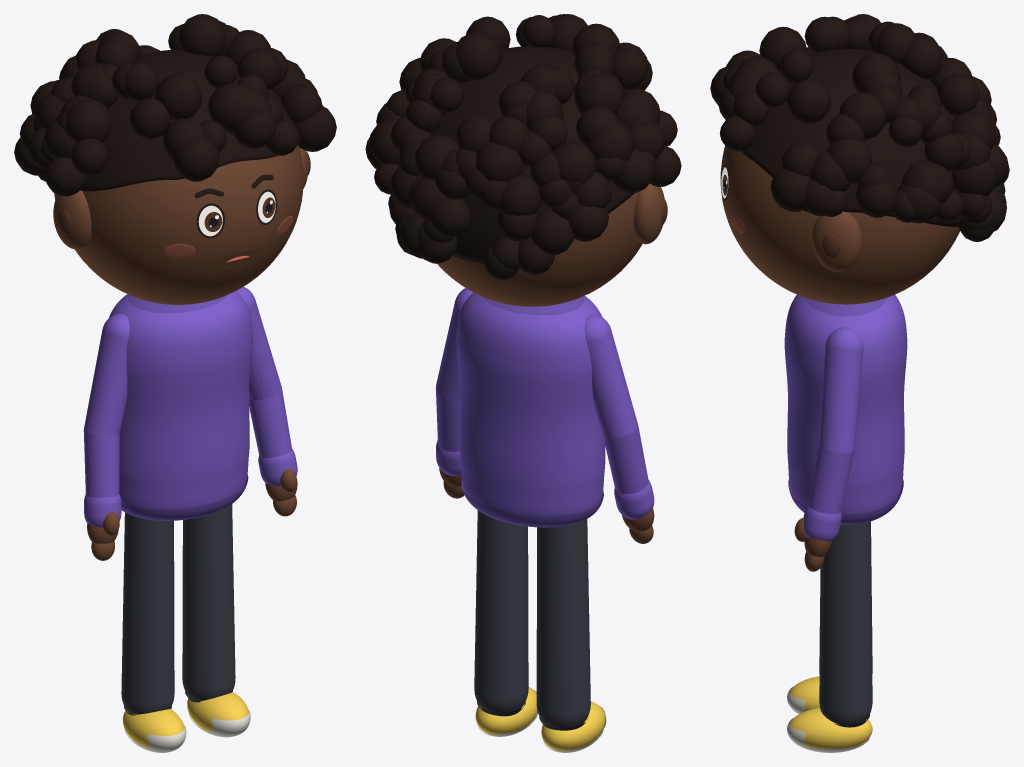
Rendered from figurant_d.glb.
The picture shows the model from 3 angles, left to right: view 1: azimuth 30°, elevation 25°; view 2: azimuth 150°, elevation 25°; view 3: azimuth 270°, elevation 25°; orthographic projection. The views are drawn at different scales.
Visible parts, largest first — view 1: figurant_d_romp, figurant_d_hoofd, figurant_d_been_R, figurant_d_been_L, figurant_d_haar, figurant_d_bovenarm_R, figurant_d_onderarm_R, figurant_d_bovenarm_L, figurant_d_onderarm_L, figurant_d_krul60, figurant_d_krul32, figurant_d_krul77 (+31 smaller); view 2: figurant_d_romp, figurant_d_been_R, figurant_d_been_L, figurant_d_hoofd, figurant_d_haar, figurant_d_bovenarm_R, figurant_d_onderarm_R, figurant_d_krul60, figurant_d_bovenarm_L, figurant_d_schoen_R, figurant_d_romp_boord, figurant_d_krul28 (+52 smaller); view 3: figurant_d_romp, figurant_d_hoofd, figurant_d_been_L, figurant_d_haar, figurant_d_bovenarm_L, figurant_d_onderarm_L, figurant_d_oor_L, figurant_d_schoen_L, figurant_d_krul55, figurant_d_krul0, figurant_d_krul26, figurant_d_krul83 (+36 smaller).
Part boxes in pixels (x1=…): figurant_d_romp: x1=109, y1=291, x2=252, y2=509; figurant_d_hoofd: x1=54, y1=145, x2=303, y2=304; figurant_d_been_R: x1=121, y1=512, x2=174, y2=714; figurant_d_been_L: x1=182, y1=504, x2=235, y2=701; figurant_d_haar: x1=80, y1=49, x2=301, y2=191; figurant_d_bovenarm_R: x1=84, y1=313, x2=129, y2=435; figurant_d_onderarm_R: x1=83, y1=430, x2=119, y2=497; figurant_d_bovenarm_L: x1=236, y1=286, x2=281, y2=400; figurant_d_onderarm_L: x1=249, y1=389, x2=291, y2=457; figurant_d_krul60: x1=178, y1=14, x2=226, y2=56; figurant_d_krul32: x1=66, y1=98, x2=112, y2=143; figurant_d_krul77: x1=154, y1=73, x2=202, y2=120; figurant_d_romp: x1=456, y1=292, x2=605, y2=515; figurant_d_been_R: x1=536, y1=519, x2=590, y2=727; figurant_d_been_L: x1=474, y1=510, x2=528, y2=712; figurant_d_hoofd: x1=437, y1=192, x2=642, y2=306; figurant_d_haar: x1=431, y1=46, x2=634, y2=263; figurant_d_bovenarm_R: x1=584, y1=314, x2=637, y2=439; figurant_d_onderarm_R: x1=603, y1=427, x2=648, y2=493; figurant_d_krul60: x1=456, y1=32, x2=501, y2=80; figurant_d_bovenarm_L: x1=436, y1=288, x2=472, y2=400; figurant_d_schoen_R: x1=541, y1=701, x2=605, y2=750; figurant_d_romp_boord: x1=461, y1=481, x2=603, y2=527; figurant_d_krul28: x1=574, y1=72, x2=624, y2=114; figurant_d_romp: x1=784, y1=294, x2=907, y2=514; figurant_d_hoofd: x1=720, y1=146, x2=959, y2=304; figurant_d_been_L: x1=819, y1=521, x2=872, y2=724; figurant_d_haar: x1=741, y1=48, x2=959, y2=226; figurant_d_bovenarm_L: x1=819, y1=327, x2=863, y2=455; figurant_d_onderarm_L: x1=808, y1=446, x2=853, y2=514; figurant_d_oor_L: x1=812, y1=211, x2=862, y2=271; figurant_d_schoen_L: x1=789, y1=707, x2=872, y2=748; figurant_d_krul55: x1=786, y1=79, x2=831, y2=123; figurant_d_krul0: x1=838, y1=92, x2=885, y2=140; figurant_d_krul26: x1=937, y1=74, x2=980, y2=116; figurant_d_krul83: x1=826, y1=139, x2=872, y2=183.
Size of the model in its own units: 0.7223 by 1.77 by 0.6873.
